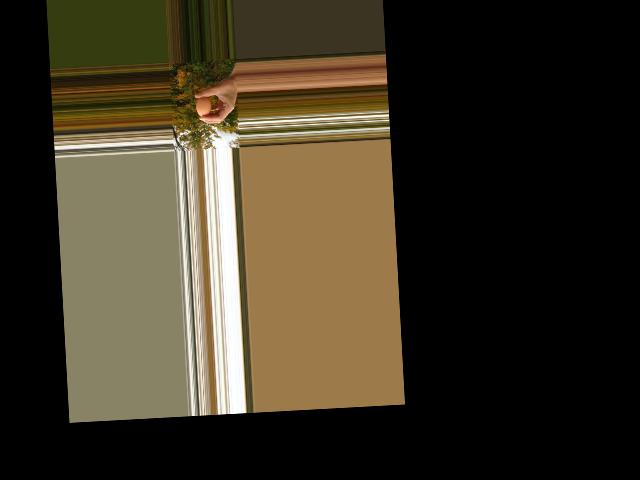egg: (195, 96, 211, 117)
